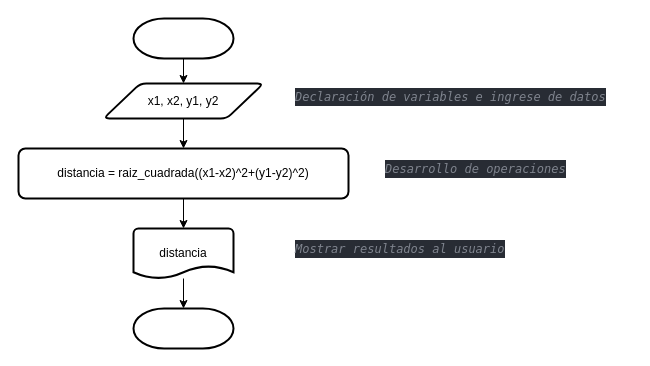
This 650x366 diagram has some shape labels left out. The centre of each missing label's shape, as x and y in pixels:
Fin: the point at 183,328
Inicio: the point at 183,38
